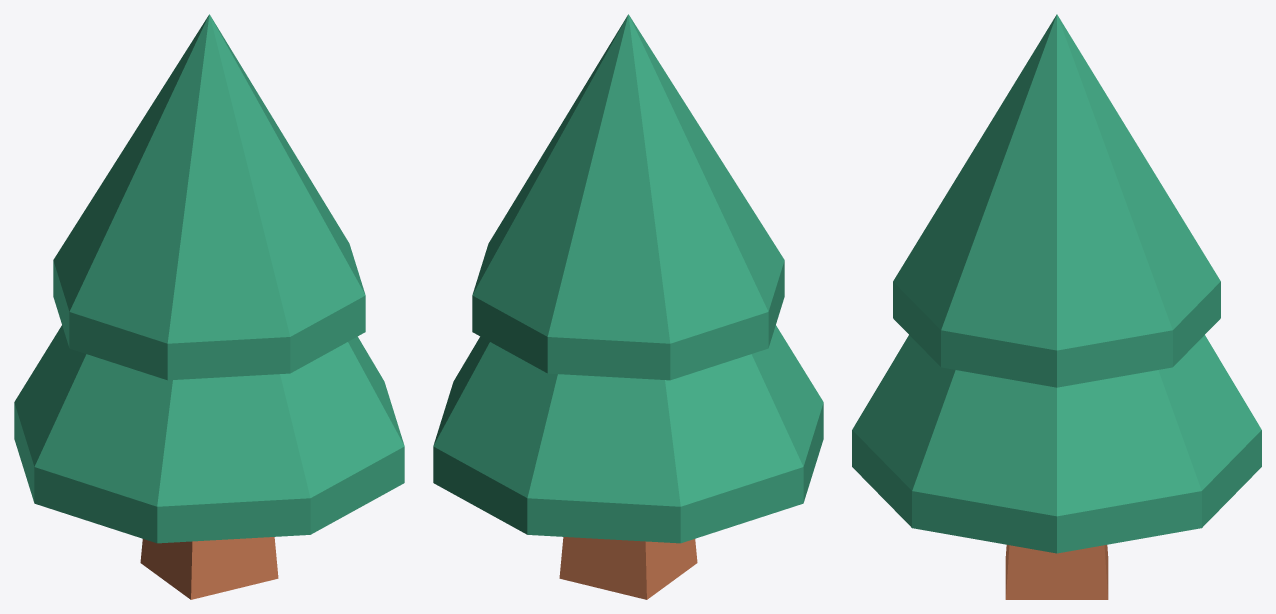
The model's file is DetailTree.fbx.
3 views of the same model, side by side, from view 1: azimuth 30°, elevation 25°; view 2: azimuth 150°, elevation 25°; view 3: azimuth 270°, elevation 25° (orthographic).
Parts seen in each view (by area): view 1: detail_tree; view 2: detail_tree; view 3: detail_tree.
Part boxes in pixels (left/top/right/bottom): detail_tree: left=14, top=14, right=404, bottom=599; detail_tree: left=433, top=14, right=823, bottom=599; detail_tree: left=852, top=14, right=1261, bottom=599.
Bounding box in the file's own units: 13.78 × 20.94 × 13.78.
